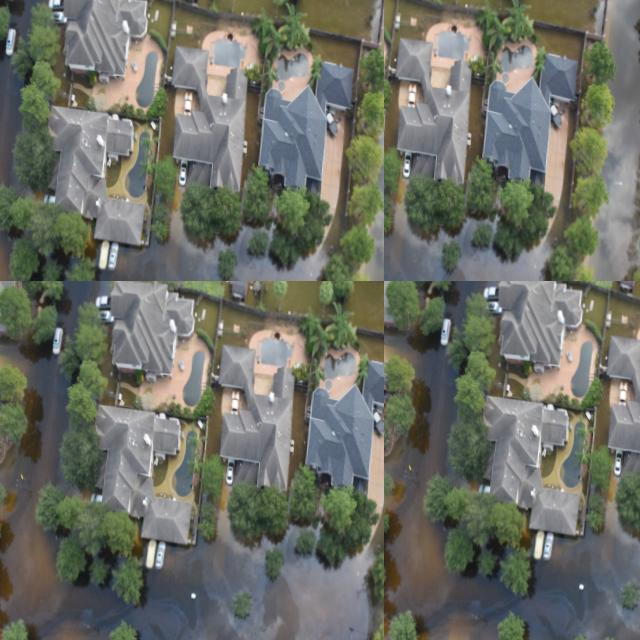fire: (118, 0, 384, 281), (384, 328, 461, 626), (519, 501, 640, 640), (429, 575, 500, 634)
